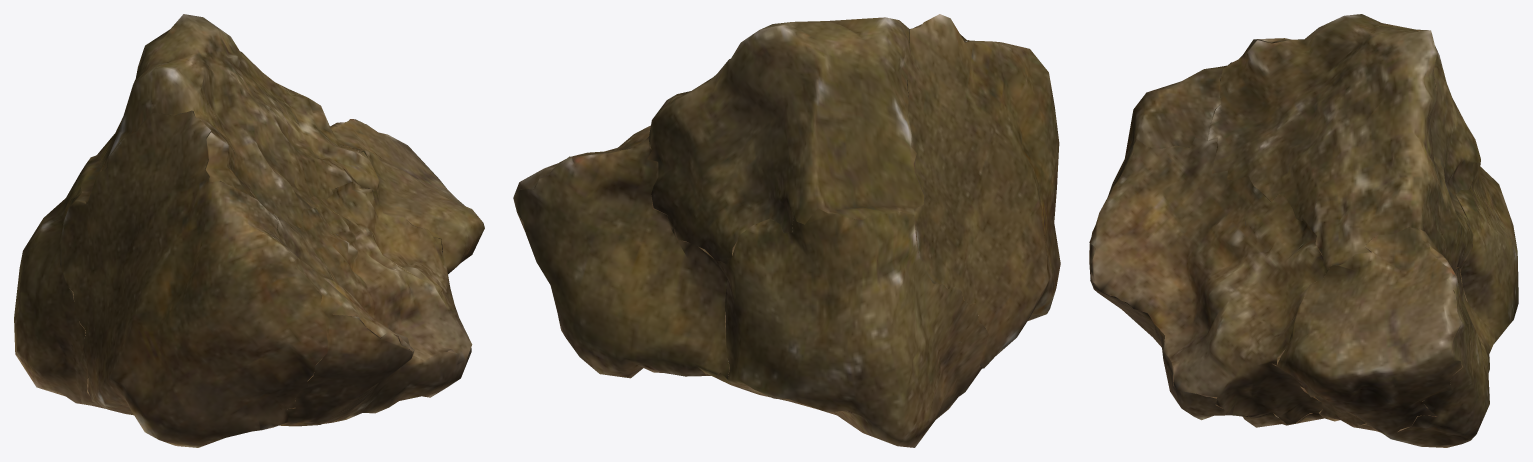
The model's file is rock_moss_04_2k.glb.
3 renders of one model, left to right at view 1: azimuth 30°, elevation 25°; view 2: azimuth 150°, elevation 25°; view 3: azimuth 270°, elevation 25°, orthographic. The views are drawn at different scales.
Parts seen in each view (by area): view 1: rock_moss_set_01_rock04; view 2: rock_moss_set_01_rock04; view 3: rock_moss_set_01_rock04.
Part boxes in pixels (x1=…): rock_moss_set_01_rock04: x1=14, y1=14, x2=484, y2=447; rock_moss_set_01_rock04: x1=513, y1=14, x2=1060, y2=447; rock_moss_set_01_rock04: x1=1089, y1=14, x2=1518, y2=447.
Size of the model in its own units: 2.13 by 1.77 by 1.96.
Materials: 1 (1 with a texture image).
